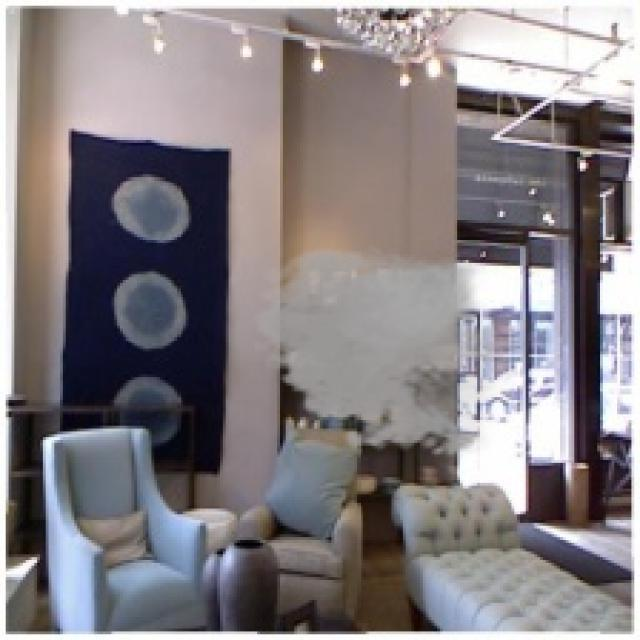Smoke: (246, 240, 523, 463)
